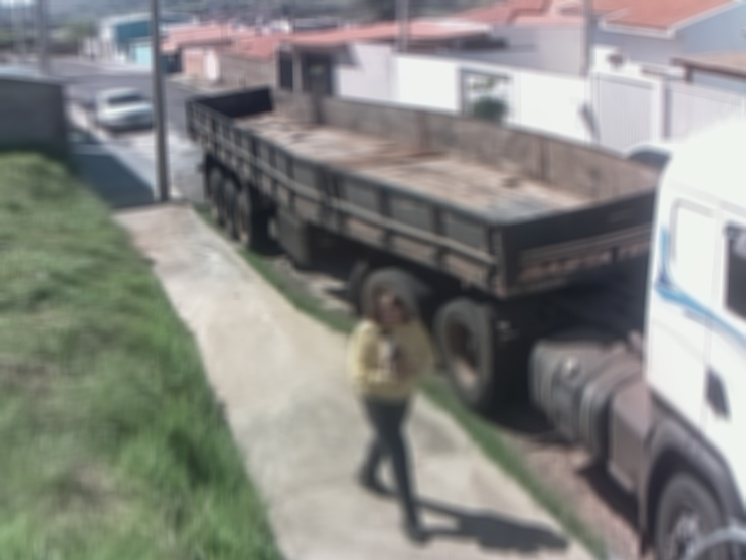person: (348, 292, 445, 550)
